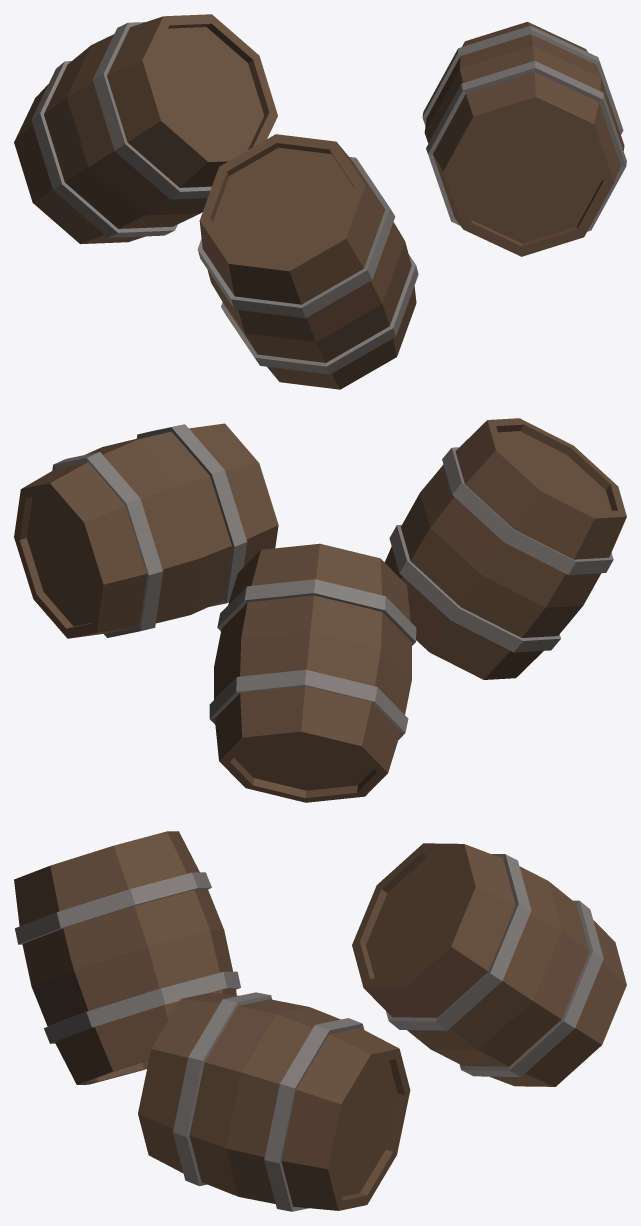
File: Barrels.fbx
The picture shows the model from 3 angles, top to bottom: view 1: azimuth 30°, elevation 25°; view 2: azimuth 150°, elevation 25°; view 3: azimuth 270°, elevation 25°; orthographic projection. The views are drawn at different scales.
Parts seen in each view (by area): view 1: Barrel; view 2: Barrel; view 3: Barrel.
Boxes of the visible parts, left/top/right/bottom form: Barrel: left=14, top=14, right=626, bottom=389; Barrel: left=14, top=418, right=626, bottom=802; Barrel: left=14, top=831, right=626, bottom=1211.
Size of the model in its own units: 374 by 173 by 389.
